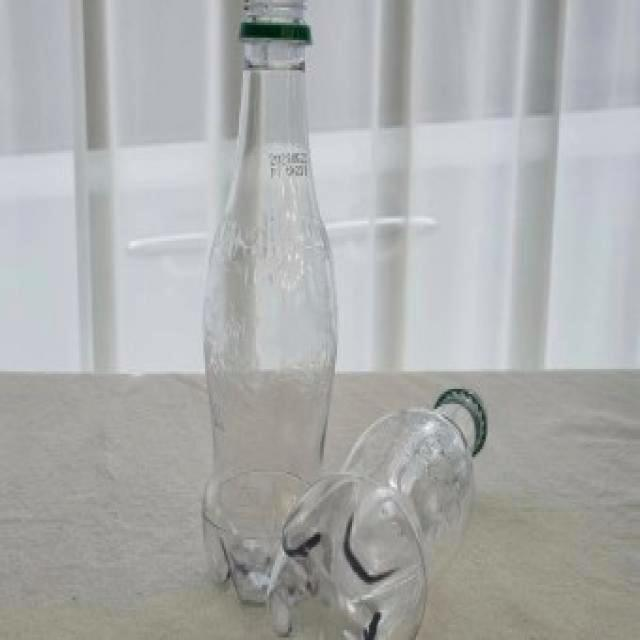bottle: (200, 3, 336, 608), (268, 387, 488, 638)
